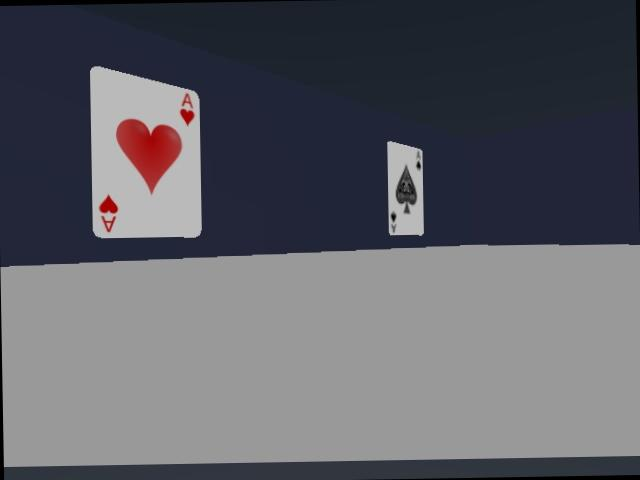heart: (90, 66, 201, 237)
spade: (387, 141, 423, 235)
